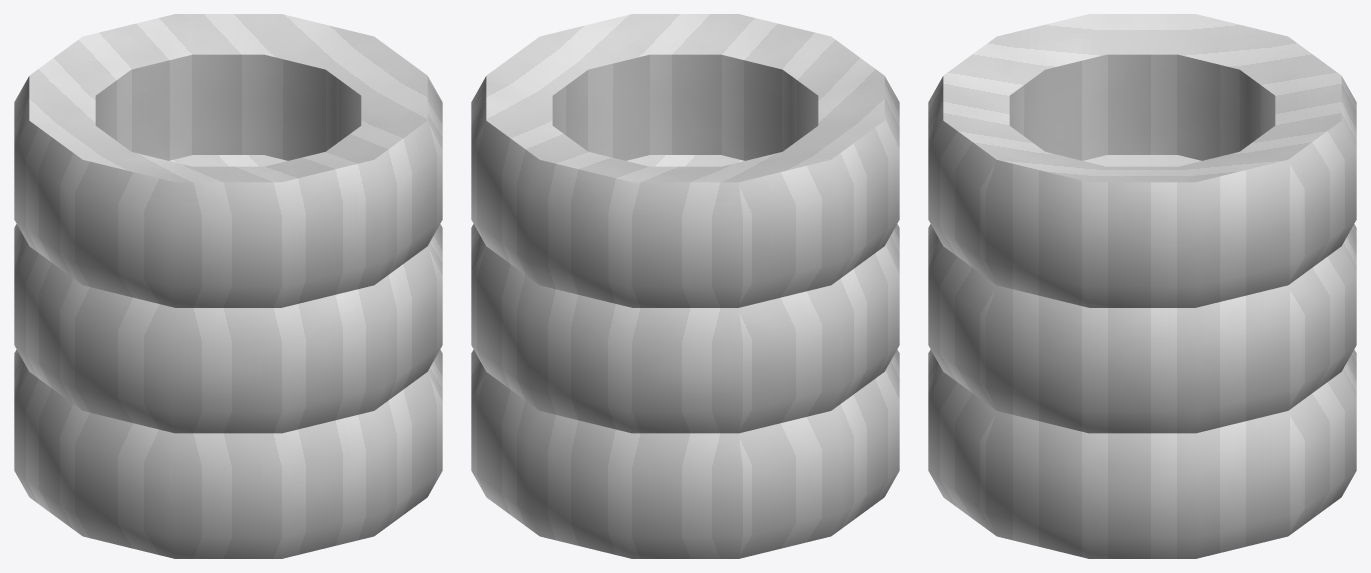
The model's file is pneus_pilha_3.glb.
The picture shows the model from 3 angles, left to right: view 1: azimuth 30°, elevation 25°; view 2: azimuth 150°, elevation 25°; view 3: azimuth 270°, elevation 25°; orthographic projection.
Parts seen in each view (by area): view 1: Inteiro, Peca_02; view 2: Inteiro, Peca_02; view 3: Inteiro, Peca_02.
Part boxes in pixels (left/top/right/bottom): Inteiro: left=14, top=14, right=442, bottom=558; Peca_02: left=14, top=54, right=441, bottom=307; Inteiro: left=471, top=14, right=899, bottom=558; Peca_02: left=473, top=54, right=899, bottom=307; Inteiro: left=928, top=14, right=1356, bottom=558; Peca_02: left=930, top=54, right=1355, bottom=306.
Size of the model in its own units: 0.6182 by 0.6 by 0.6182.
1 material, 1 textured.
